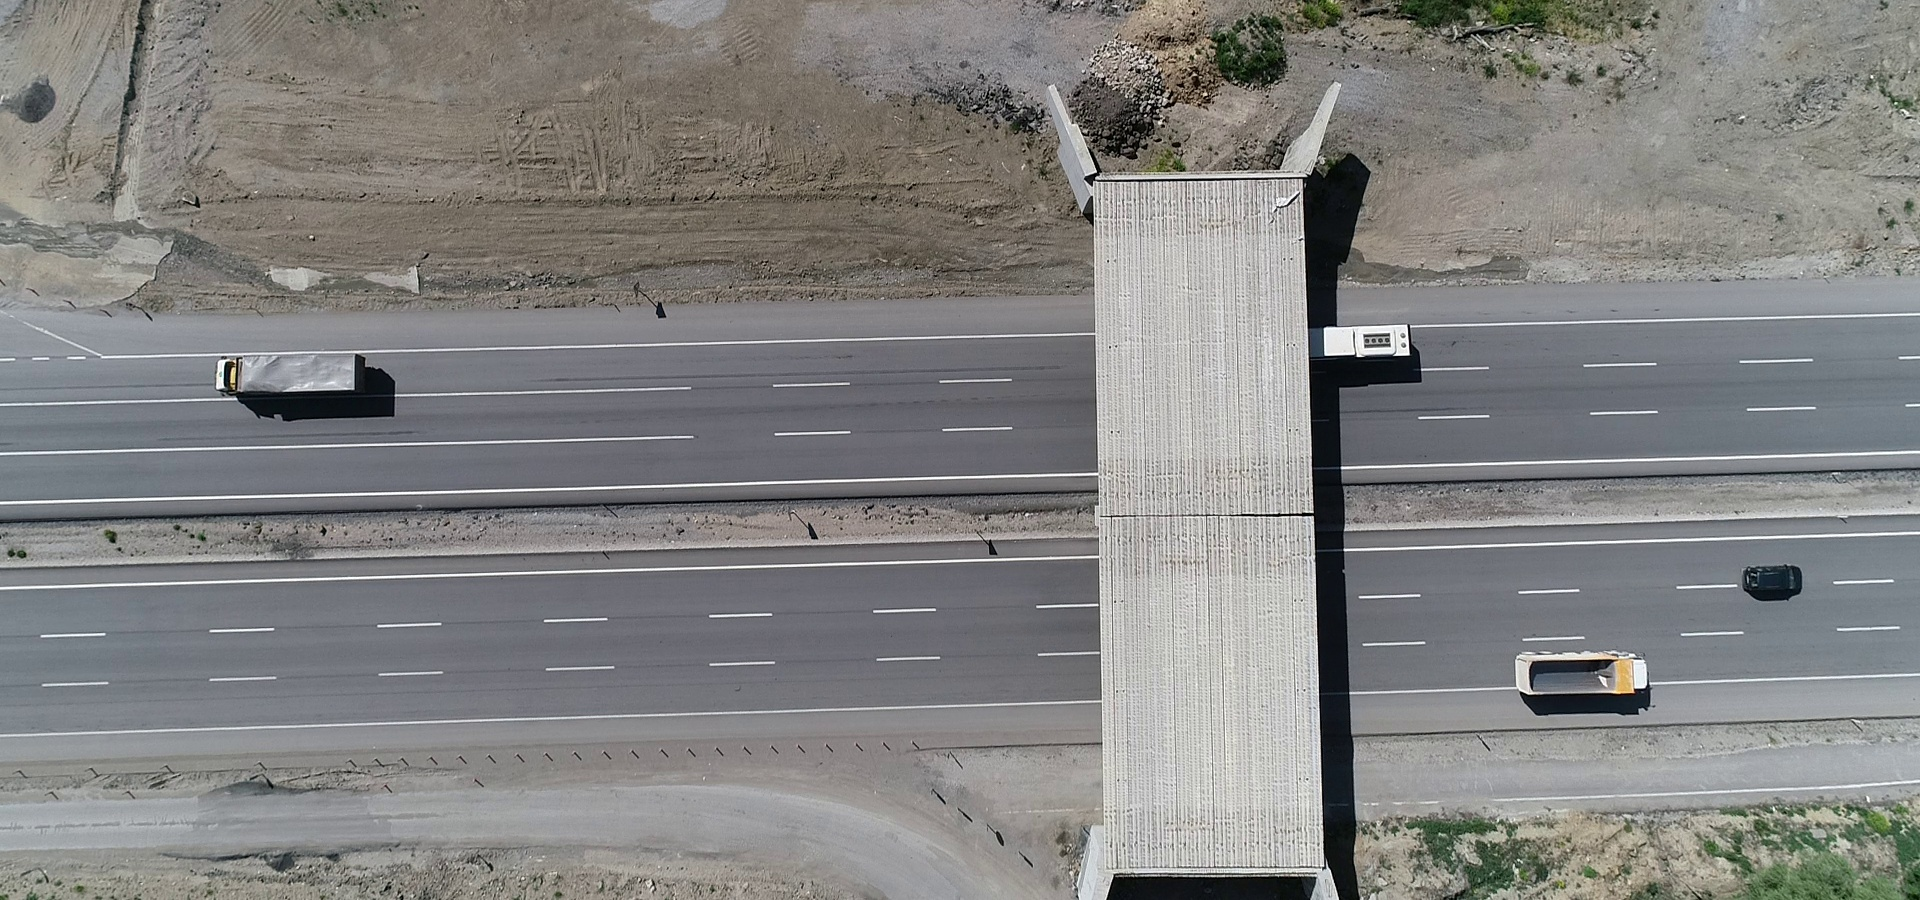araba: (1736, 562, 1818, 601)
kamyon: (207, 347, 383, 407), (1307, 312, 1425, 381)
kamyonet: (1517, 642, 1678, 707)
